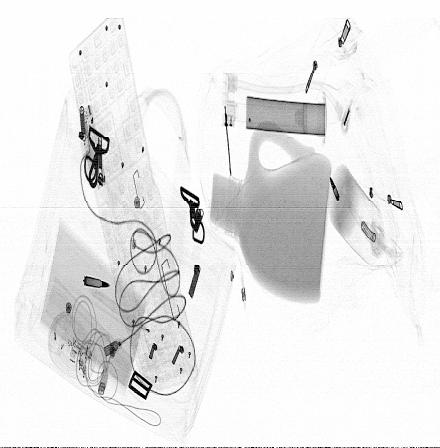Bullet: (84, 275, 110, 289), (329, 176, 340, 201)
